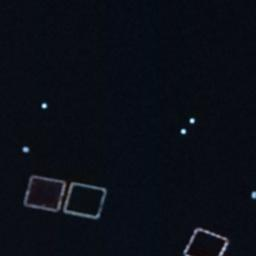square_solid: (19, 169, 73, 218), (58, 177, 113, 225), (177, 222, 241, 256)
